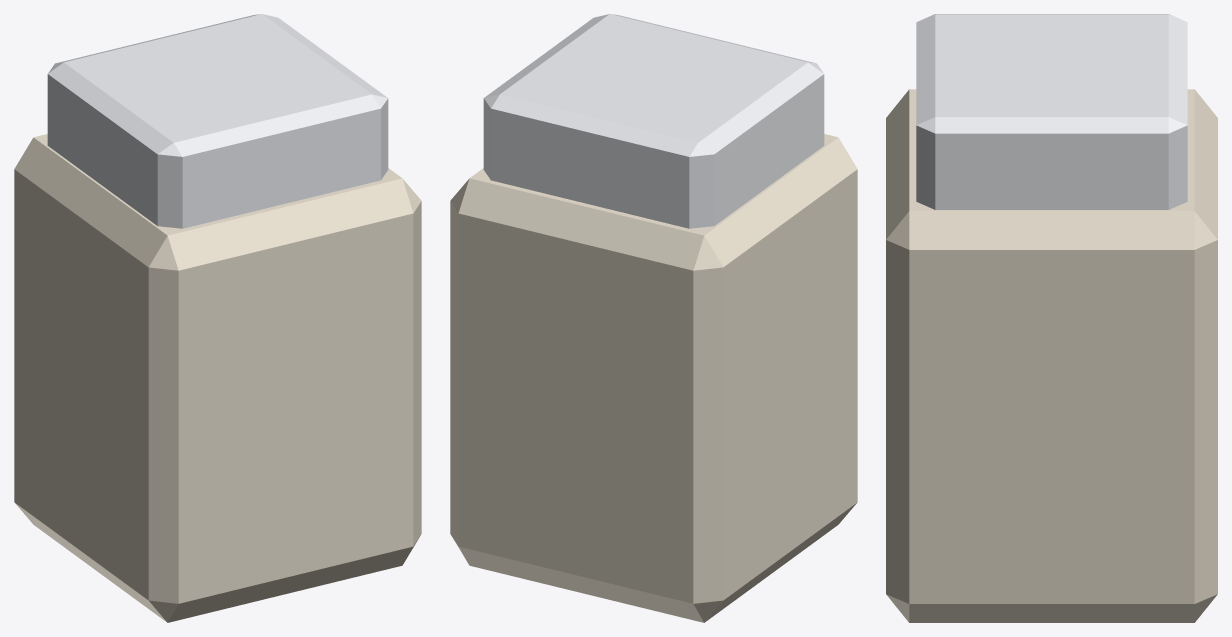
The model's file is b17_zippered_day_backpack.glb.
3 renders of one model, left to right at view 1: azimuth 30°, elevation 25°; view 2: azimuth 150°, elevation 25°; view 3: azimuth 270°, elevation 25°, orthographic. The views are drawn at different scales.
Visible parts, largest first — view 1: b17_zippered_day_backpack; view 2: b17_zippered_day_backpack; view 3: b17_zippered_day_backpack.
Part boxes in pixels (left/top/right/bottom): b17_zippered_day_backpack: left=14, top=14, right=421, bottom=622; b17_zippered_day_backpack: left=450, top=14, right=857, bottom=622; b17_zippered_day_backpack: left=886, top=14, right=1217, bottom=622.
Size of the model in its own units: 0.3 by 0.49 by 0.297.
